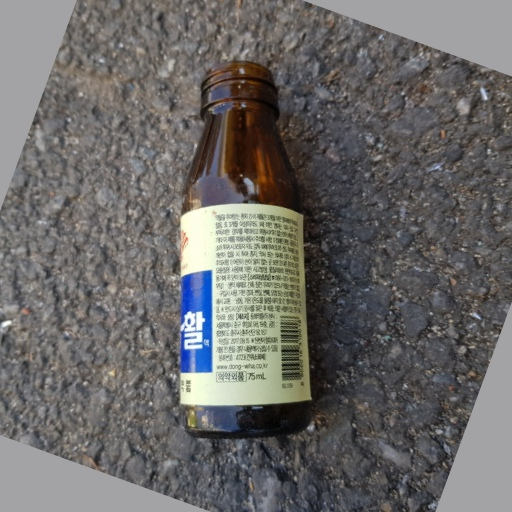Glass_3: (172, 59, 317, 436)
